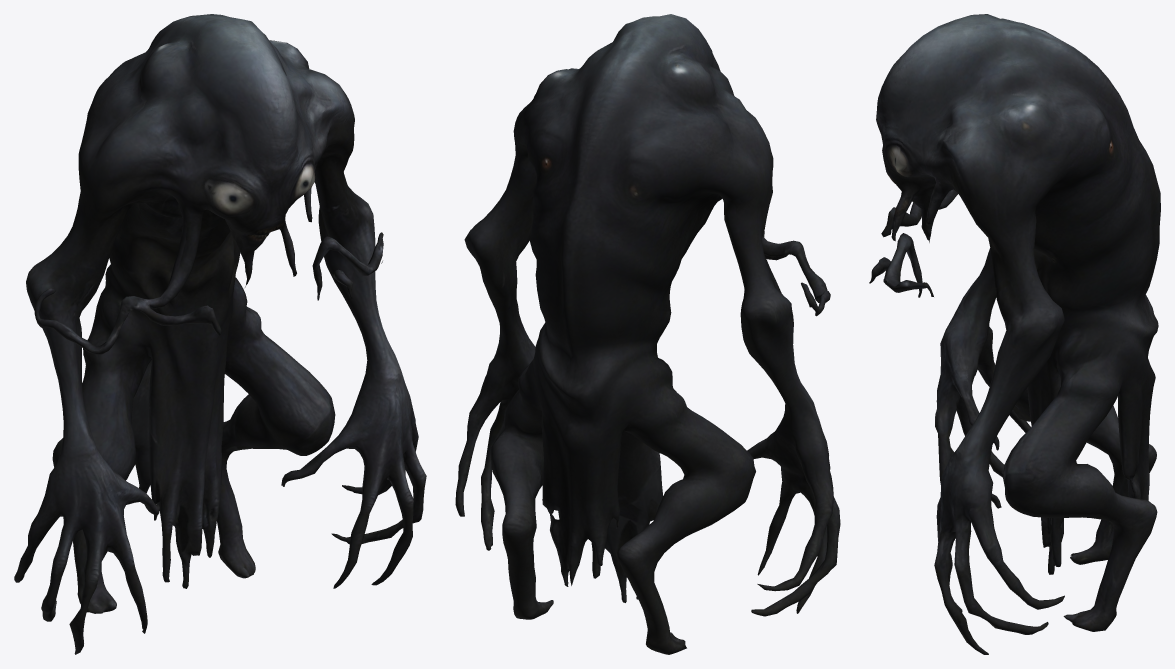
Rendered from robo.glb.
3 views of the same model, side by side, from view 1: azimuth 30°, elevation 25°; view 2: azimuth 150°, elevation 25°; view 3: azimuth 270°, elevation 25° (orthographic). The views are drawn at different scales.
Parts seen in each view (by area): view 1: Object_4; view 2: Object_4; view 3: Object_4.
Boxes of the visible parts, box(x1,y1,x2,y2) form: Object_4: box(14, 14, 426, 654); Object_4: box(455, 14, 840, 654); Object_4: box(869, 14, 1160, 654).
Size of the model in its own units: 1.33 by 2 by 0.917.
1 material, 1 textured.
